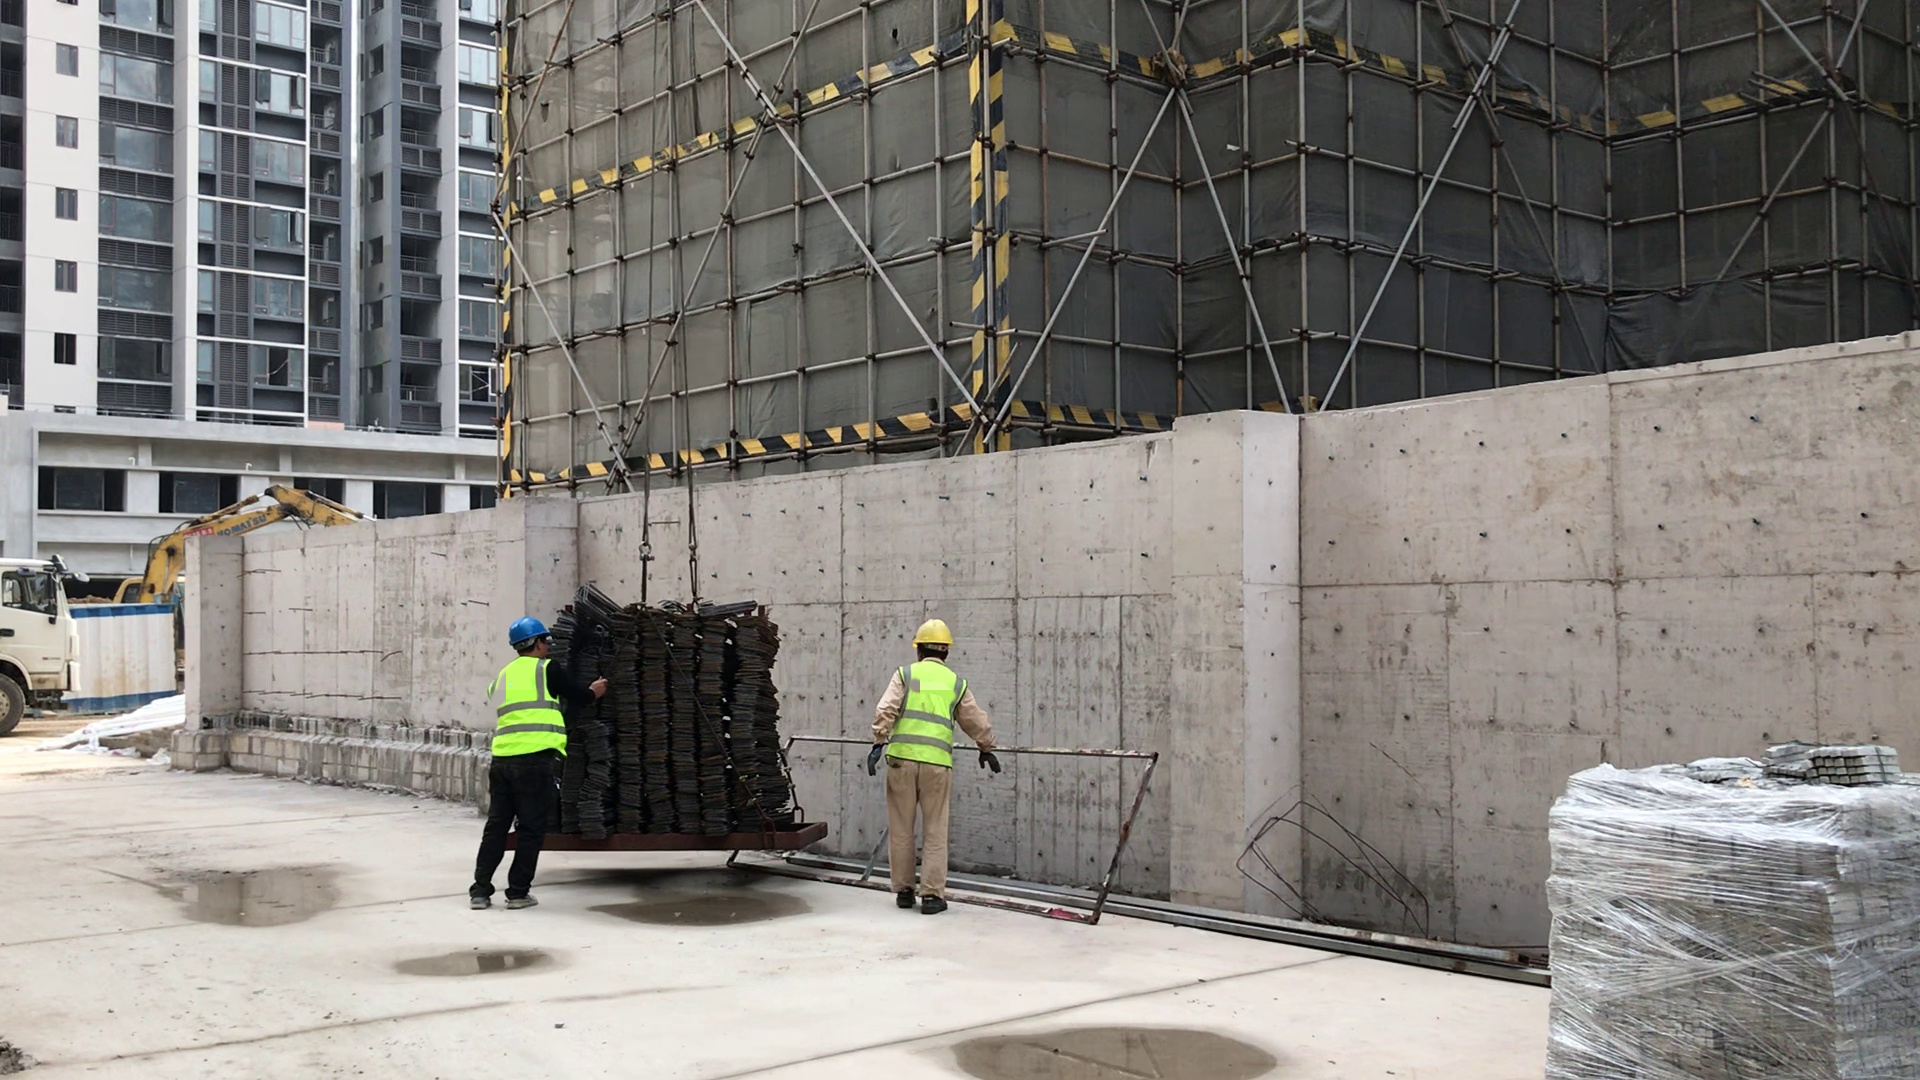helmet: (904, 608, 970, 659), (495, 612, 553, 653)
person: (473, 600, 605, 909), (881, 593, 986, 918)
vest: (895, 658, 961, 792), (487, 659, 570, 756)
